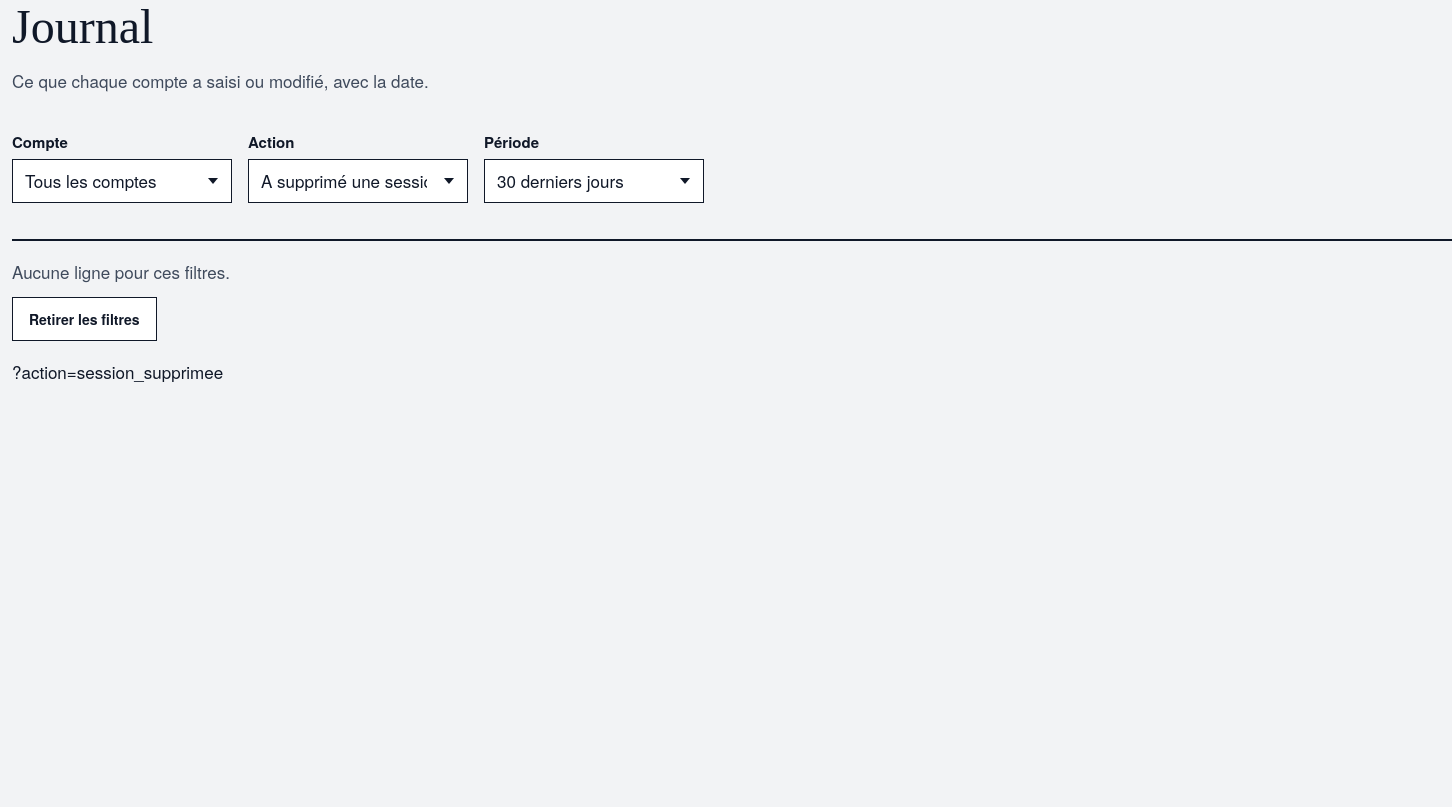
Test: écran 06 lu par le berger › sans ligne : « Aucune ligne pour ces filtres. » et « Retirer les filtres »
Check: the text "Aucune ligne pour ces filtres." is shown, box [12,259,230,285]
Step 1. Click the button "Retirer les filtres" → click(84, 319), box [12,297,157,341]
(page scrolled)
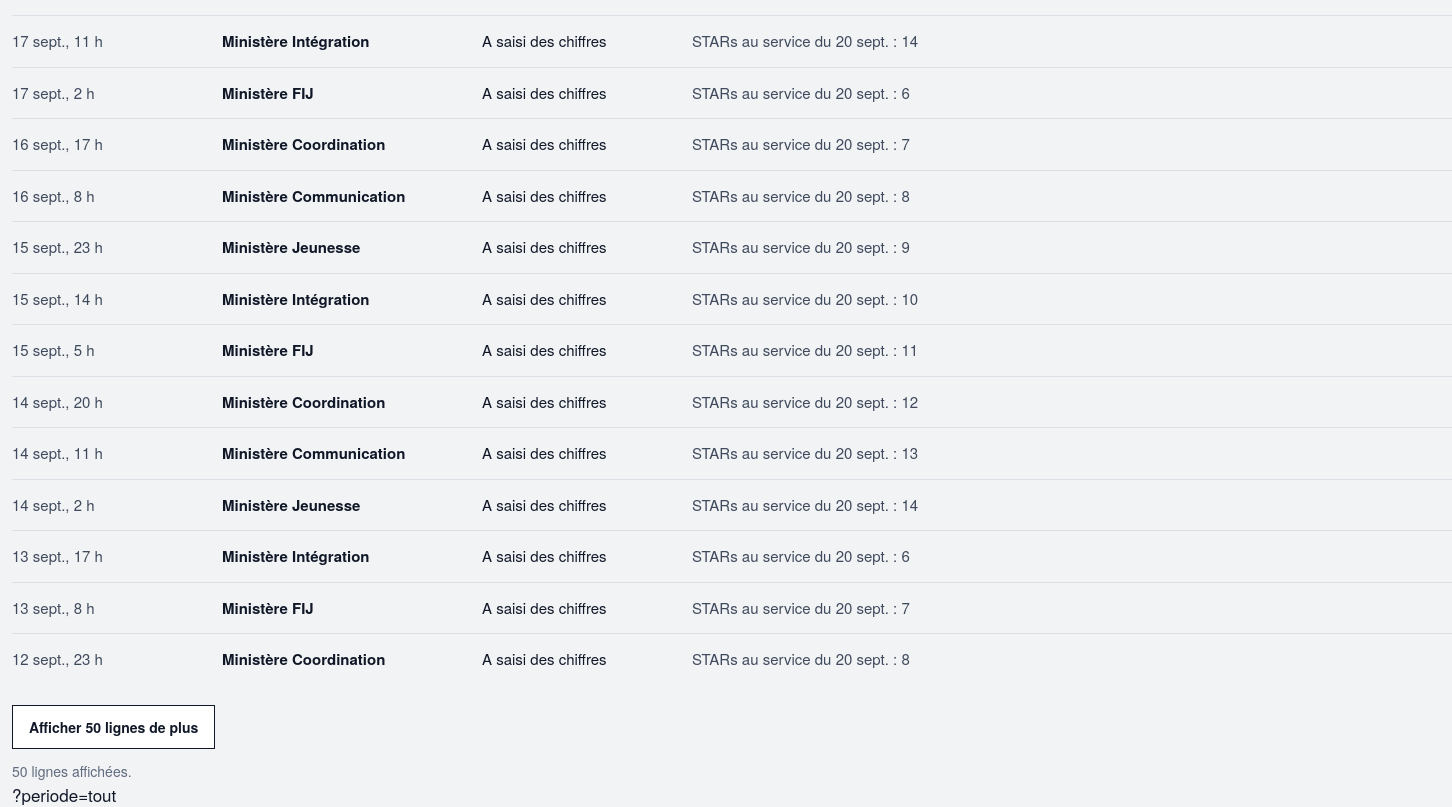
Check: the text with test id "adresse" reads "?periode=tout", box [12,782,116,806]
Check: the text "Aucune ligne pour ces filtres." is gone
